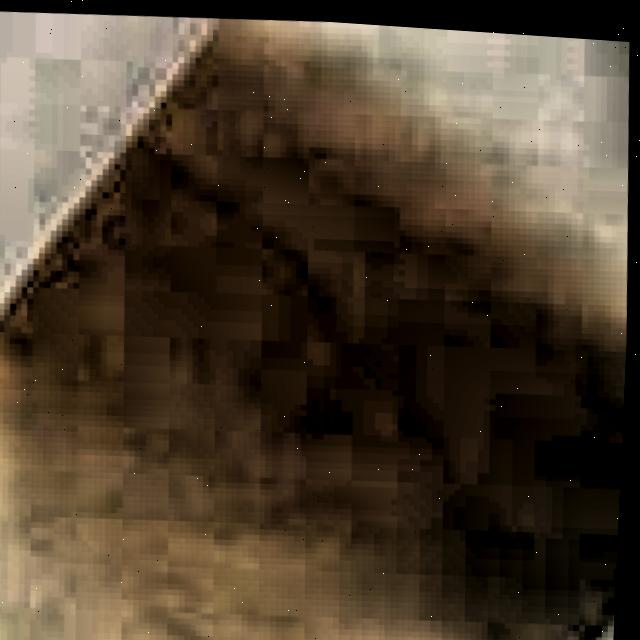paper: (0, 15, 629, 640)
